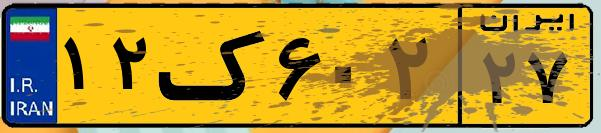0: (330, 28, 385, 110)
1: (57, 26, 110, 100)
2: (385, 28, 445, 110), (475, 38, 525, 113), (110, 28, 158, 98)
6: (270, 28, 330, 110)
7: (525, 38, 570, 115)
ک: (158, 12, 270, 120)
